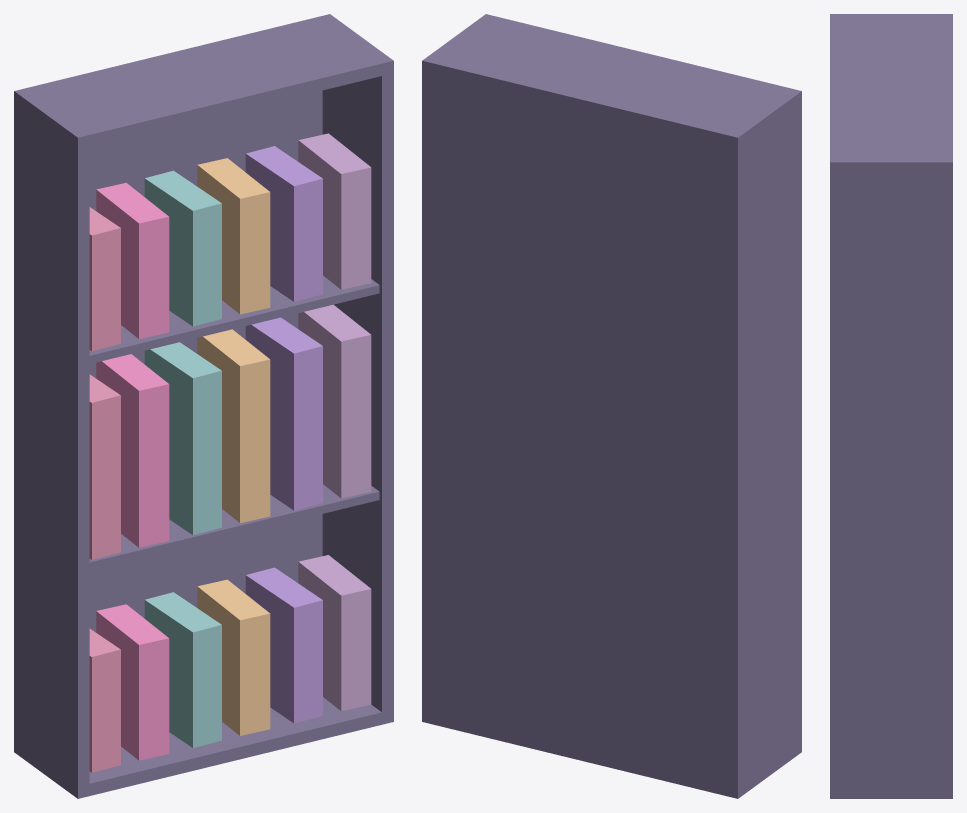
Rendered from deco_libreria_01.glb.
3 renders of one model, left to right at view 1: azimuth 30°, elevation 25°; view 2: azimuth 150°, elevation 25°; view 3: azimuth 270°, elevation 25°, orthographic. The views are drawn at different scales.
Parts seen in each view (by area): view 1: deco_libreria_01; view 2: deco_libreria_01; view 3: deco_libreria_01.
Boxes of the visible parts, box(x1,y1,x2,y2) form: deco_libreria_01: box(14, 14, 393, 798); deco_libreria_01: box(422, 14, 801, 798); deco_libreria_01: box(830, 14, 952, 798).
Size of the model in its own units: 0.8 by 1.6 by 0.28.
